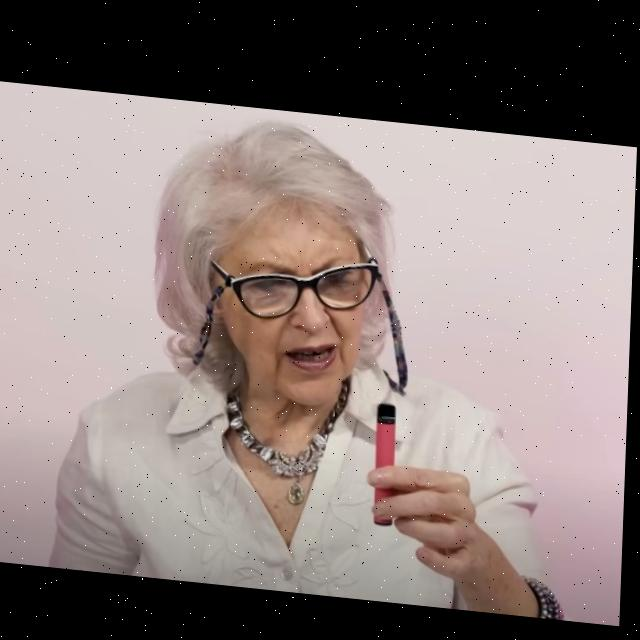vape: (375, 393, 400, 519)
